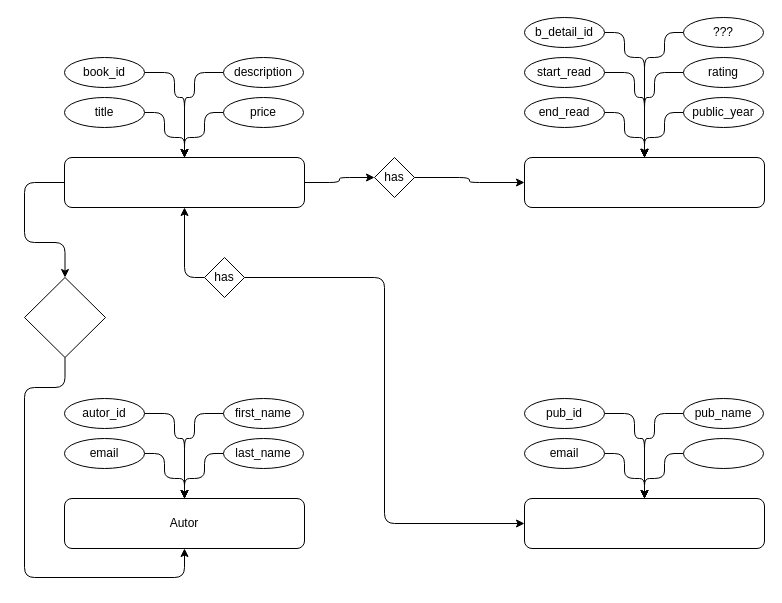
Some shapes in this 782 by 603 pixel diagram are drawn without their labels. Each missing label, with the box of its shape:
Book: (64, 156, 304, 208)
Book details: (524, 156, 764, 208)
Publisher: (524, 498, 764, 548)
written_by: (24, 276, 106, 358)
